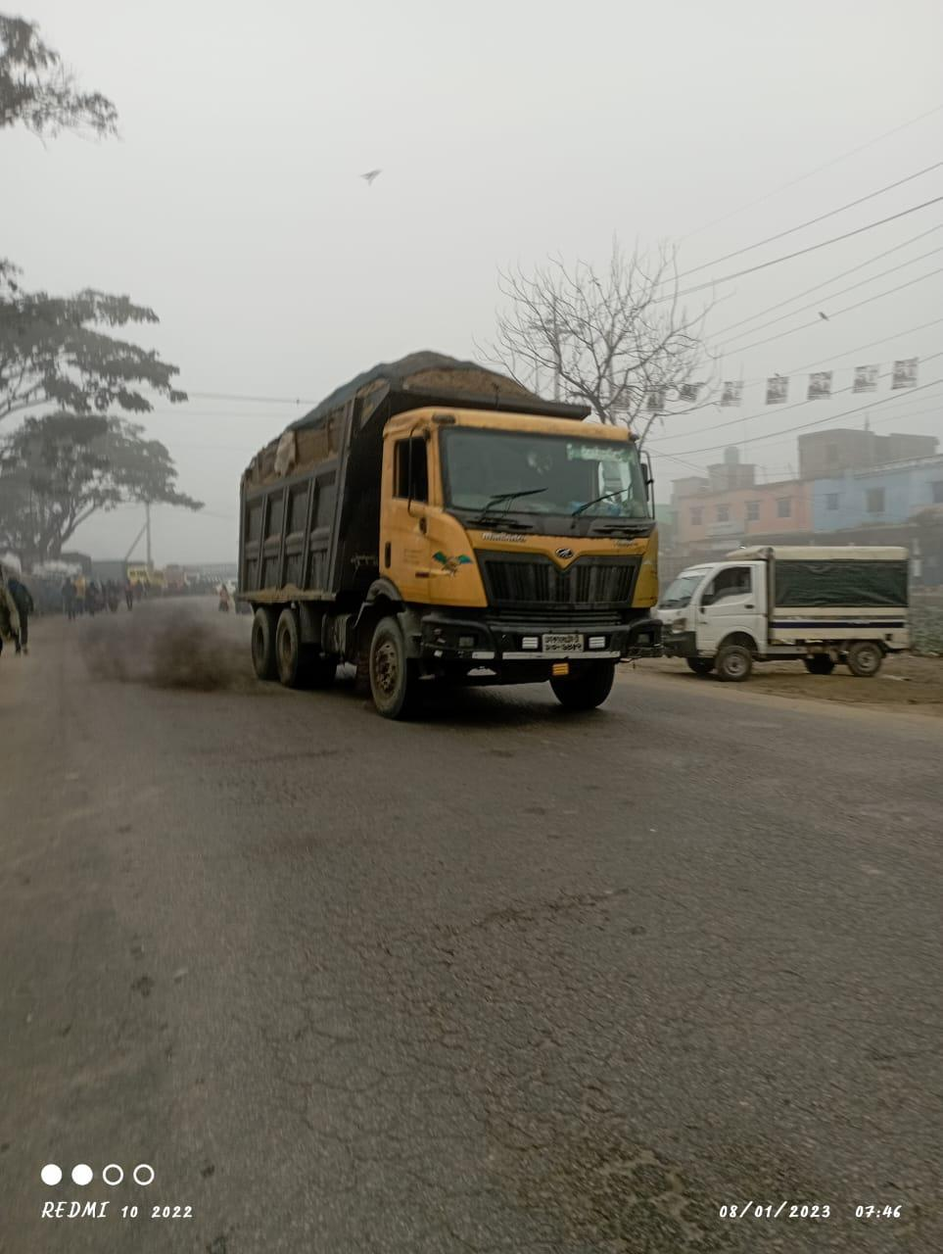Car: (663, 540, 925, 695)
Truck: (223, 344, 658, 746)
